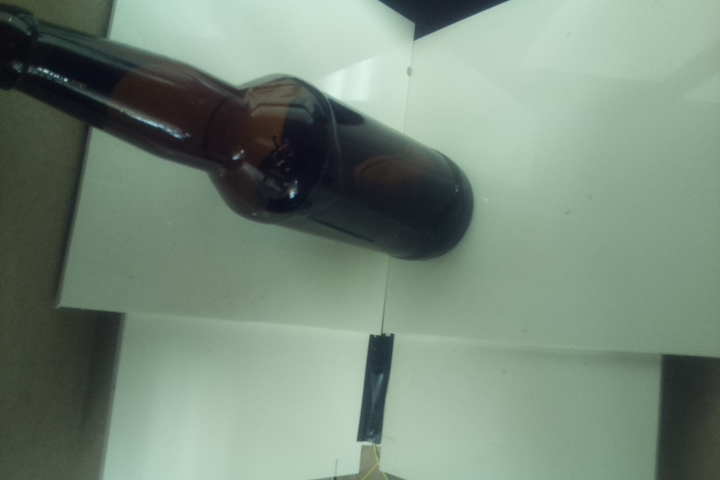makju: (1, 1, 476, 262)
